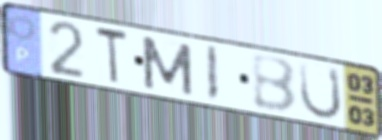2: (46, 19, 87, 81)
B: (249, 53, 299, 116)
I: (204, 43, 220, 105)
M: (139, 34, 196, 98)
T: (94, 24, 131, 87)
U: (297, 60, 345, 122)
